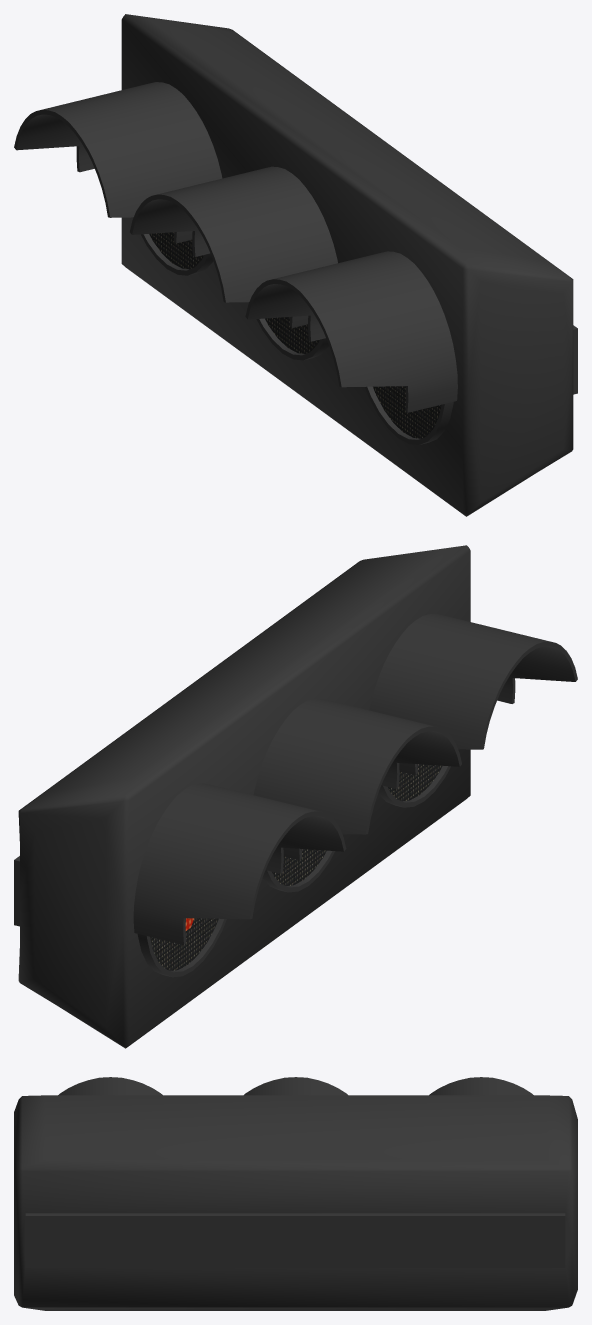
Rendered from 横向右转灯_RedLight.fbx.
3 renders of one model, top to bottom at view 1: azimuth 30°, elevation 25°; view 2: azimuth 150°, elevation 25°; view 3: azimuth 270°, elevation 25°, orthographic. The views are drawn at different scales.
Parts seen in each view (by area): view 1: 横向右转灯_RedLight; view 2: 横向右转灯_RedLight; view 3: 横向右转灯_RedLight.
Boxes of the visible parts, x1,y1,x2,y2 form: 横向右转灯_RedLight: [14, 14, 577, 516]; 横向右转灯_RedLight: [14, 545, 577, 1048]; 横向右转灯_RedLight: [14, 1077, 577, 1310].
Size of the model in its own units: 0.6 by 0.65 by 1.58.
Materials: 3 (2 with a texture image).
